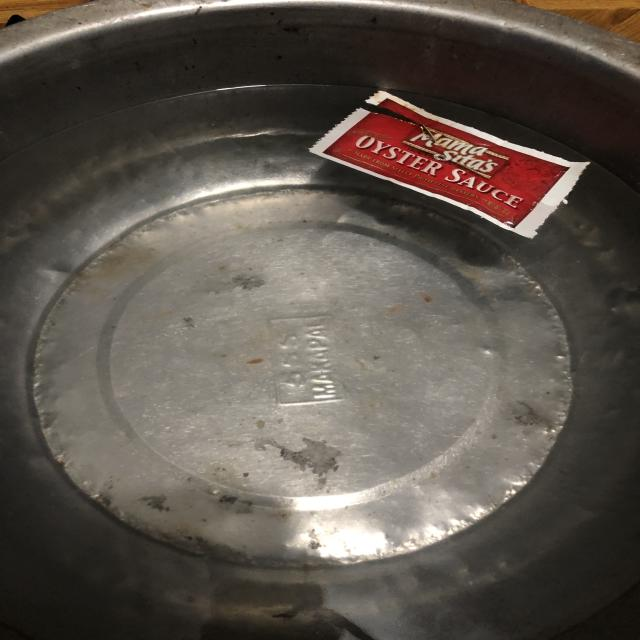Plastic Wrapper: (278, 68, 606, 257)
